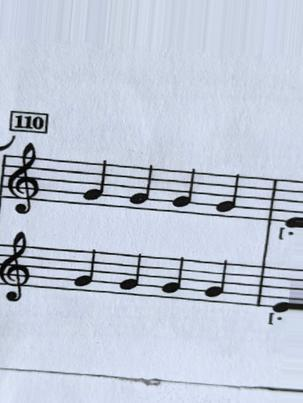note: (123, 158, 157, 217), (80, 157, 111, 213), (201, 256, 232, 312), (213, 168, 245, 220), (69, 245, 101, 297), (166, 164, 197, 217), (114, 248, 145, 301), (159, 253, 186, 306)
